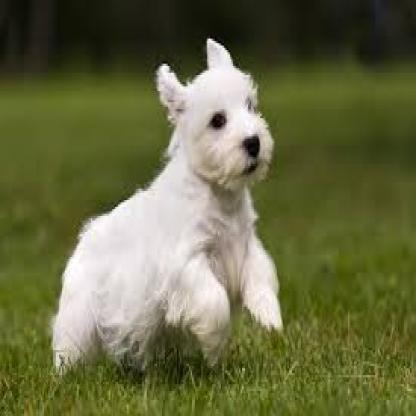Sealyham terrier: (37, 38, 289, 358)
